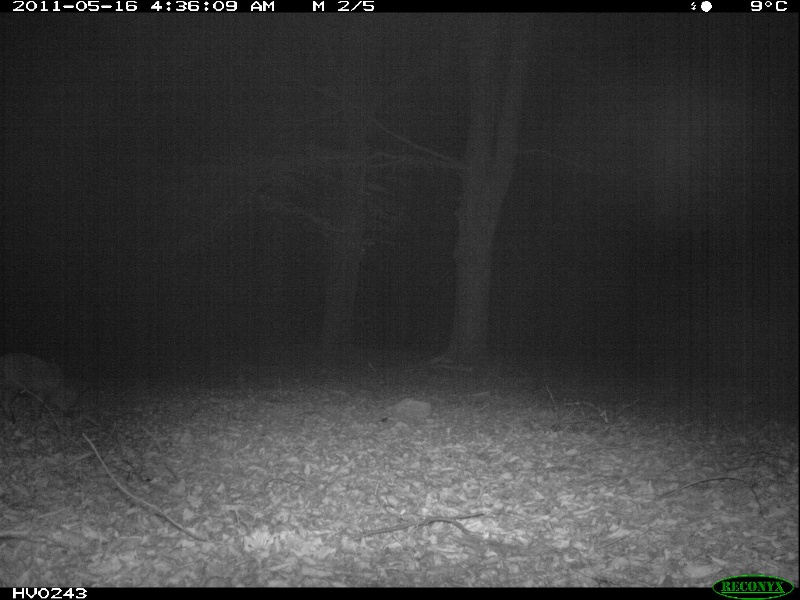fox: (1, 347, 83, 421)
